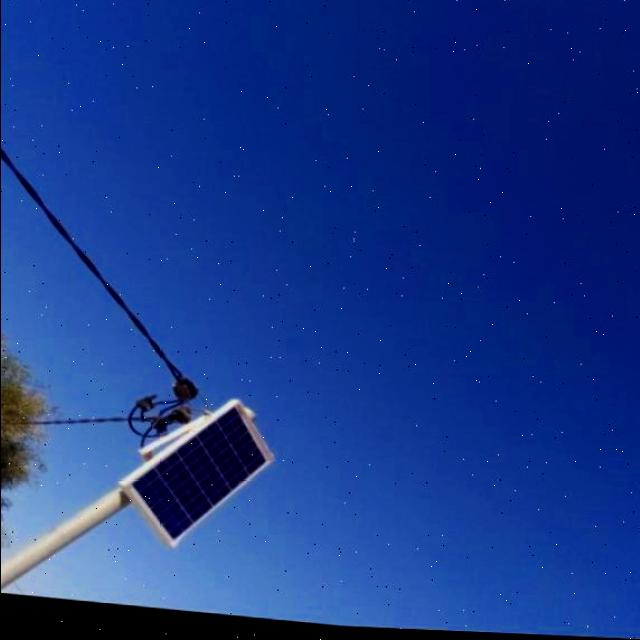Normal Solar Panel: (118, 396, 276, 560)
